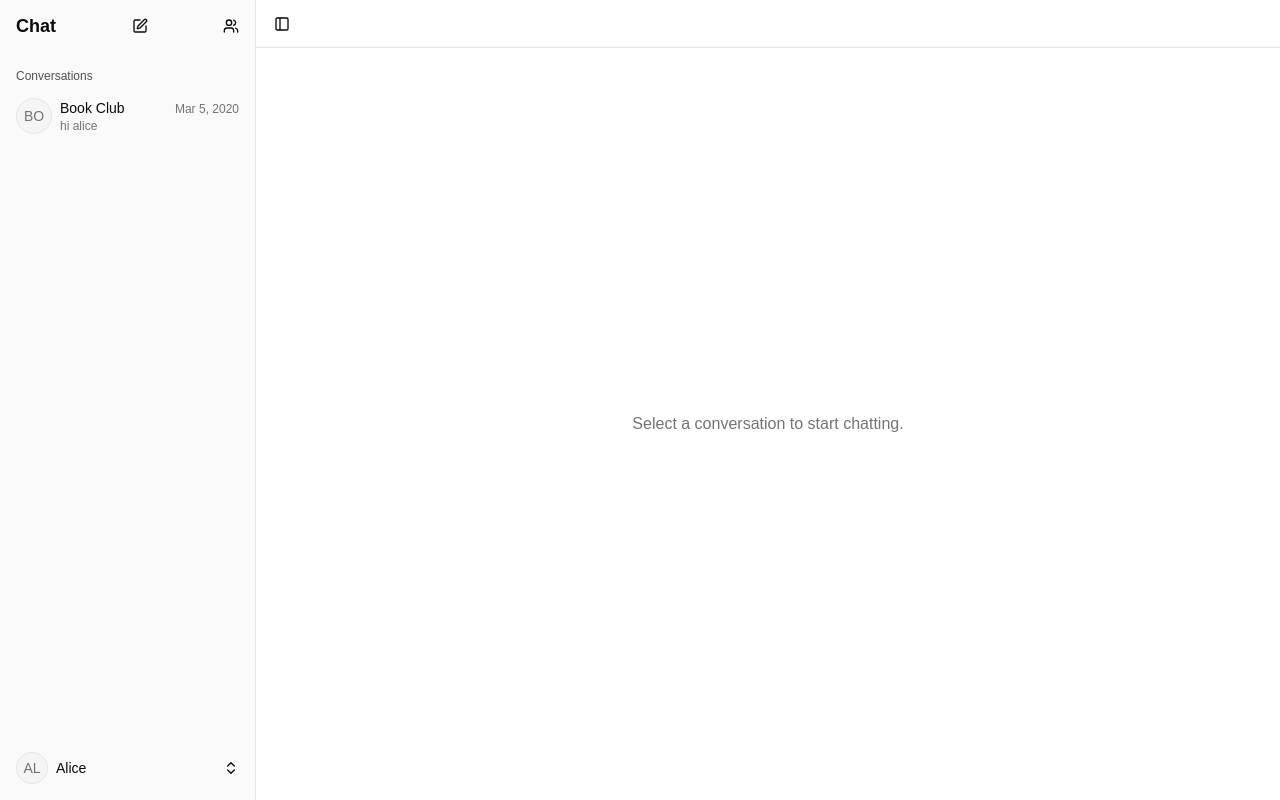
Test: real-time push in the SPA › replaces a stale entry when conversation.created arrives for an ID already listed
Click the button "BO Book Club Mar 5, 2020 hi alice".
click(128, 116)  # box [8,92,247,140]
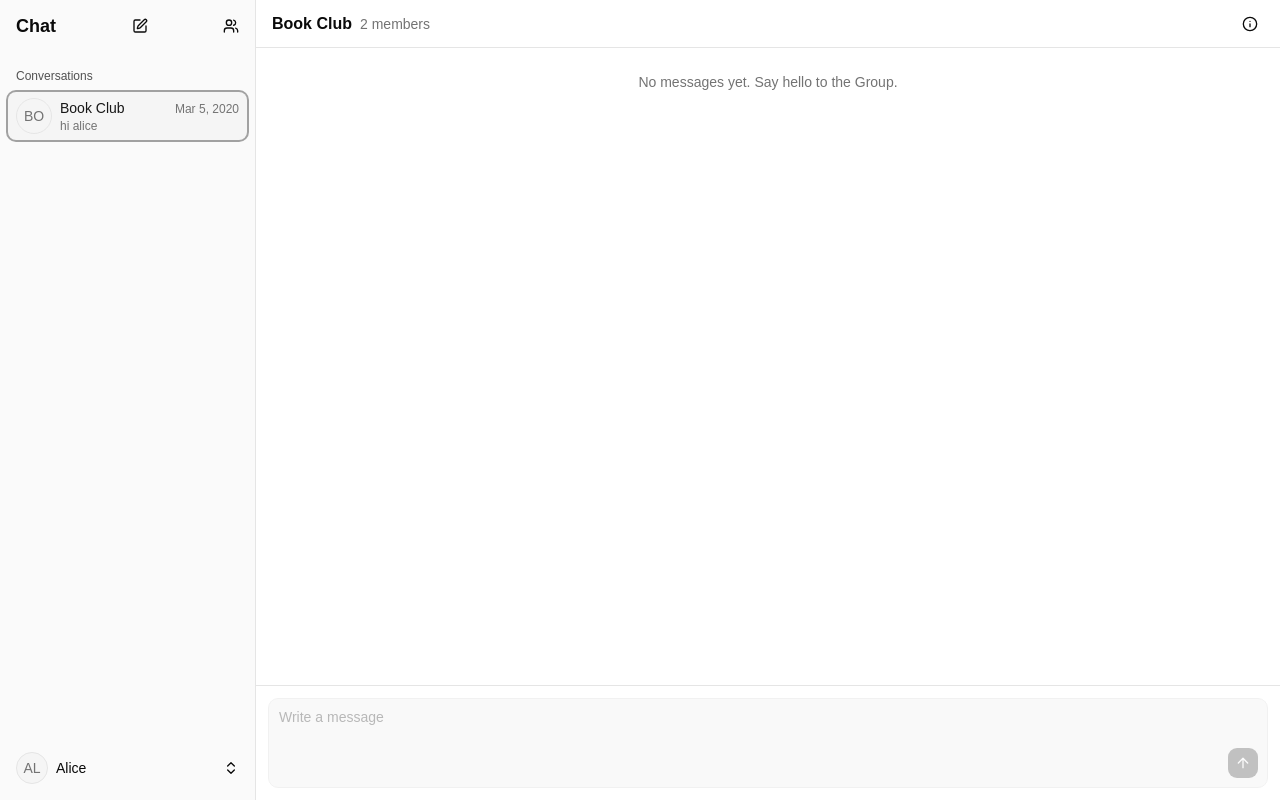
expect the number of buttons "BO Book Club Mar 5, 2020 hi alice" is 1: met, box [8,92,247,140]
expect the text box labelled "Write a message" is shown: met, box [269,699,1267,739]
